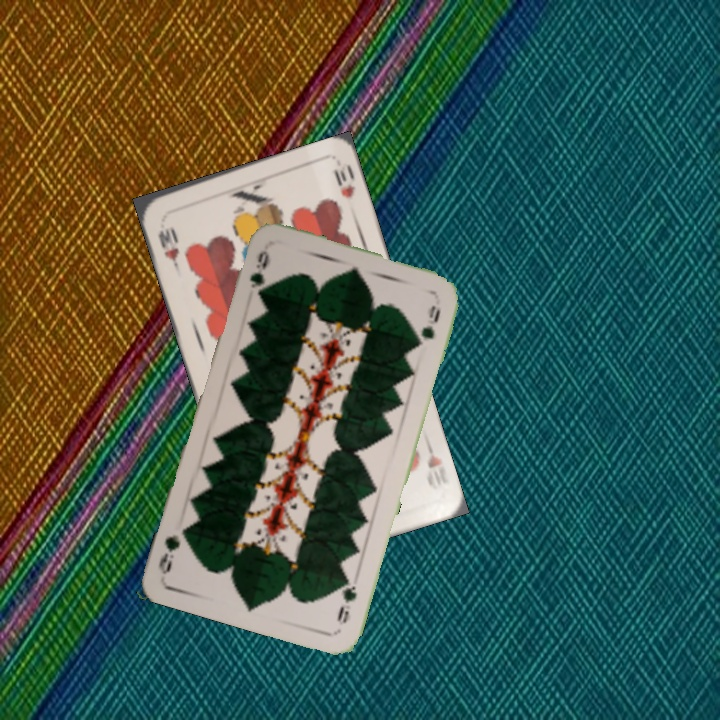G9: (333, 571, 360, 626), (245, 246, 272, 291)
H10: (154, 222, 182, 273), (421, 436, 445, 492)
